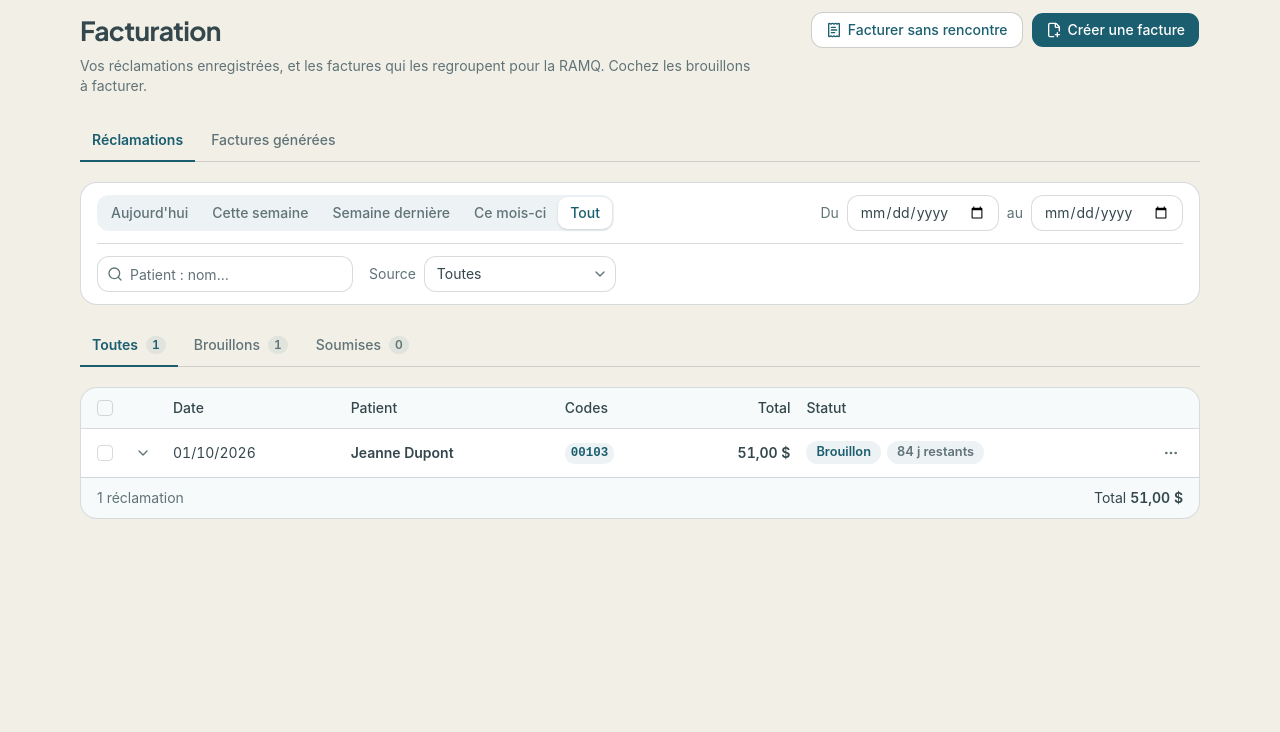
Test: claims tab › expands a claim's code lines with fee and explanation, and collapses them again
expect the text "Jeanne Dupont" is shown: met, box [351,444,454,460]
Click the button named "Détails" at point(143, 452), box [129,438,157,466]
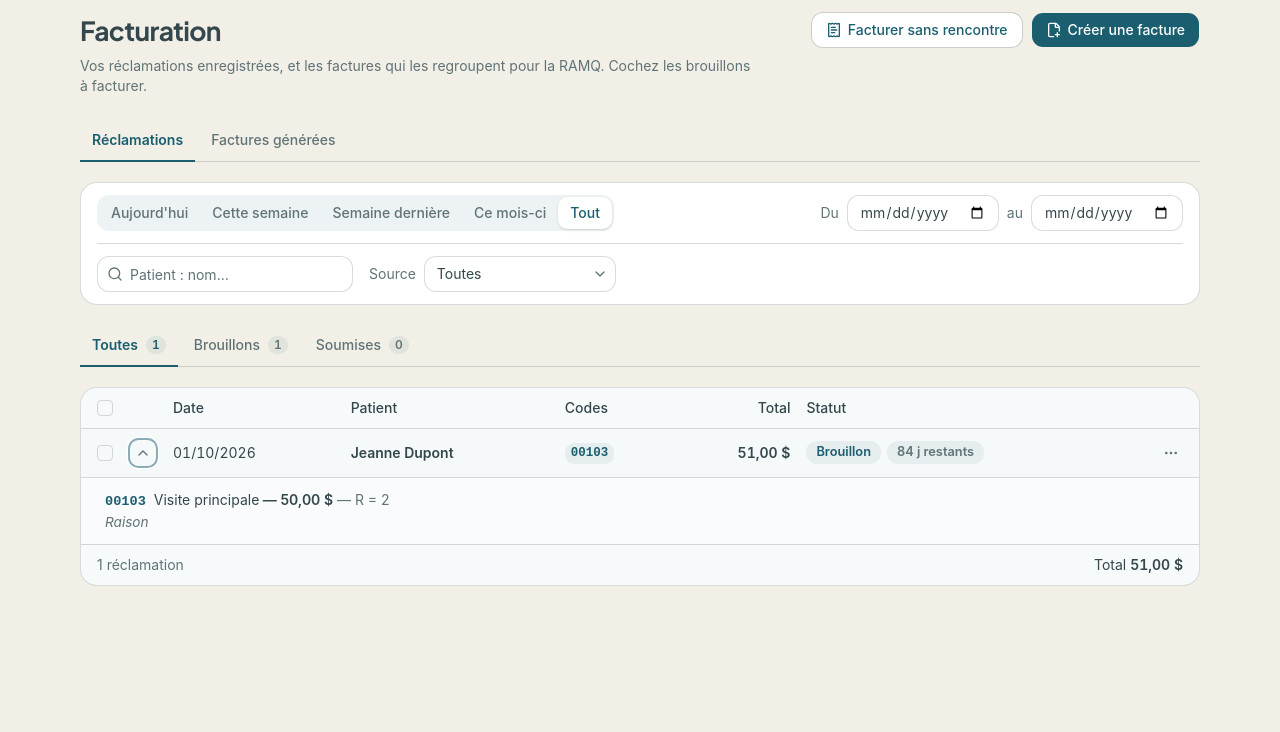
expect the text "Raison" is shown: met, box [105,514,149,530]
expect the list item "Raison" shows "00103Visite principale — 50,00 $ — R = 2": met, box [105,490,390,530]
Click the button named "Détails" at point(143, 452), box [129,438,157,466]
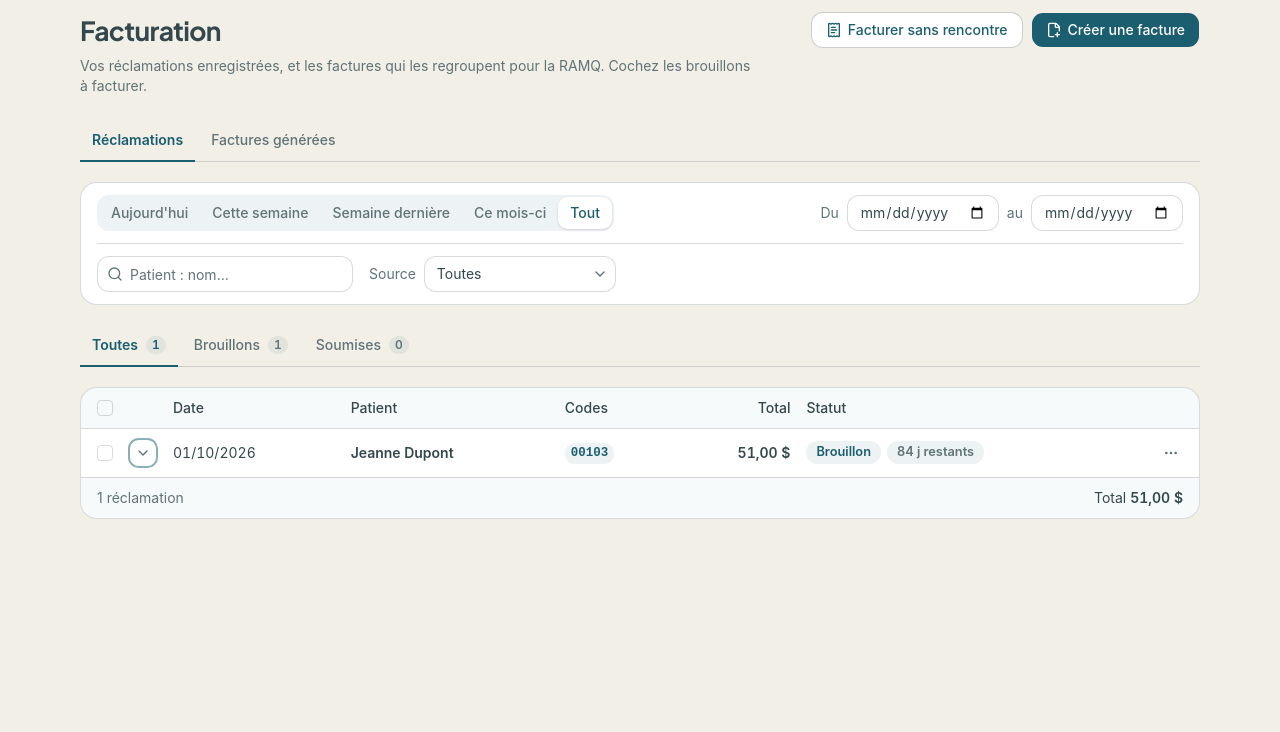
expect the text "Raison" is gone: met
